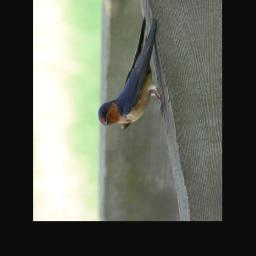Swallow: (83, 0, 171, 134)
